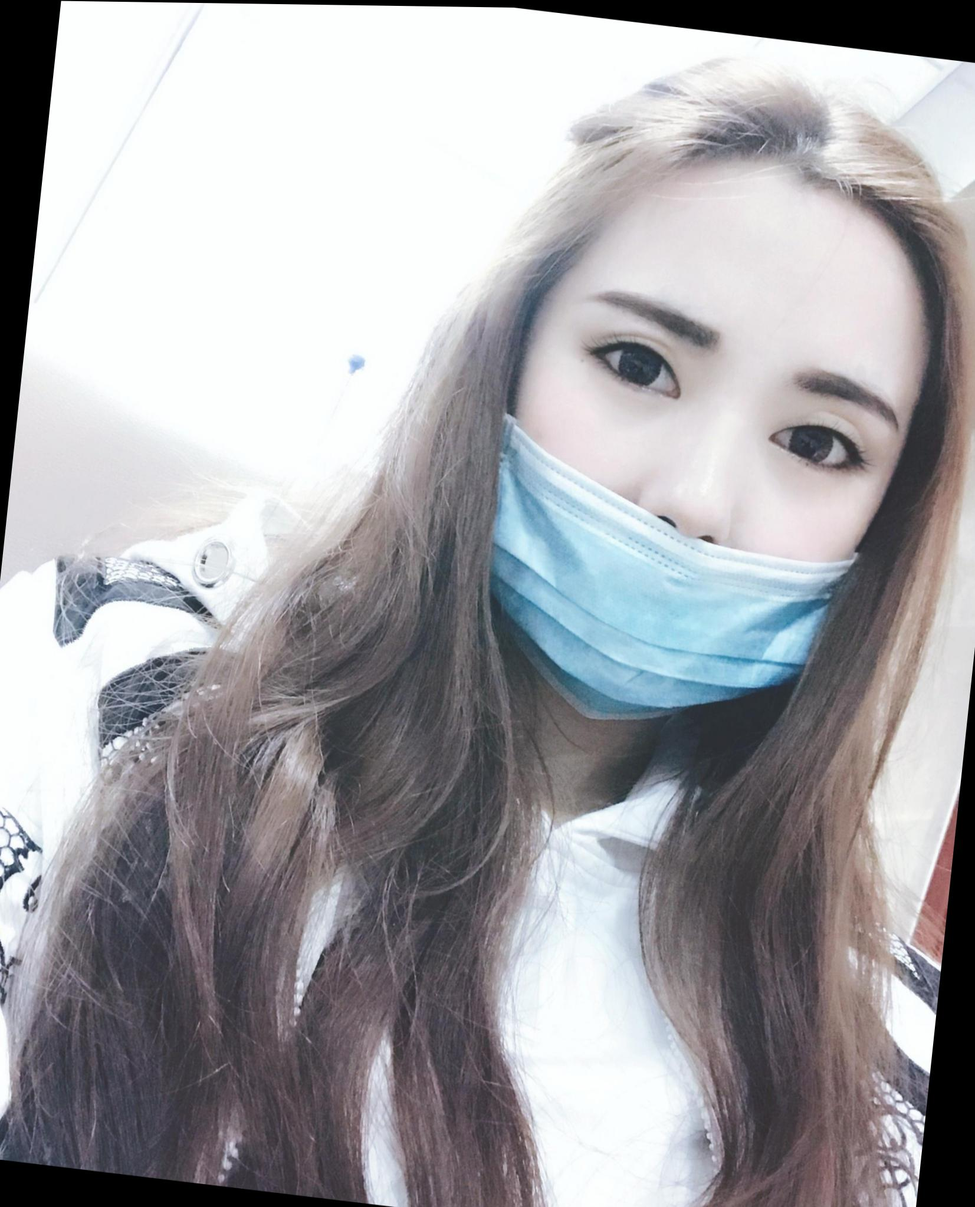WRONG: (471, 259, 933, 726)
